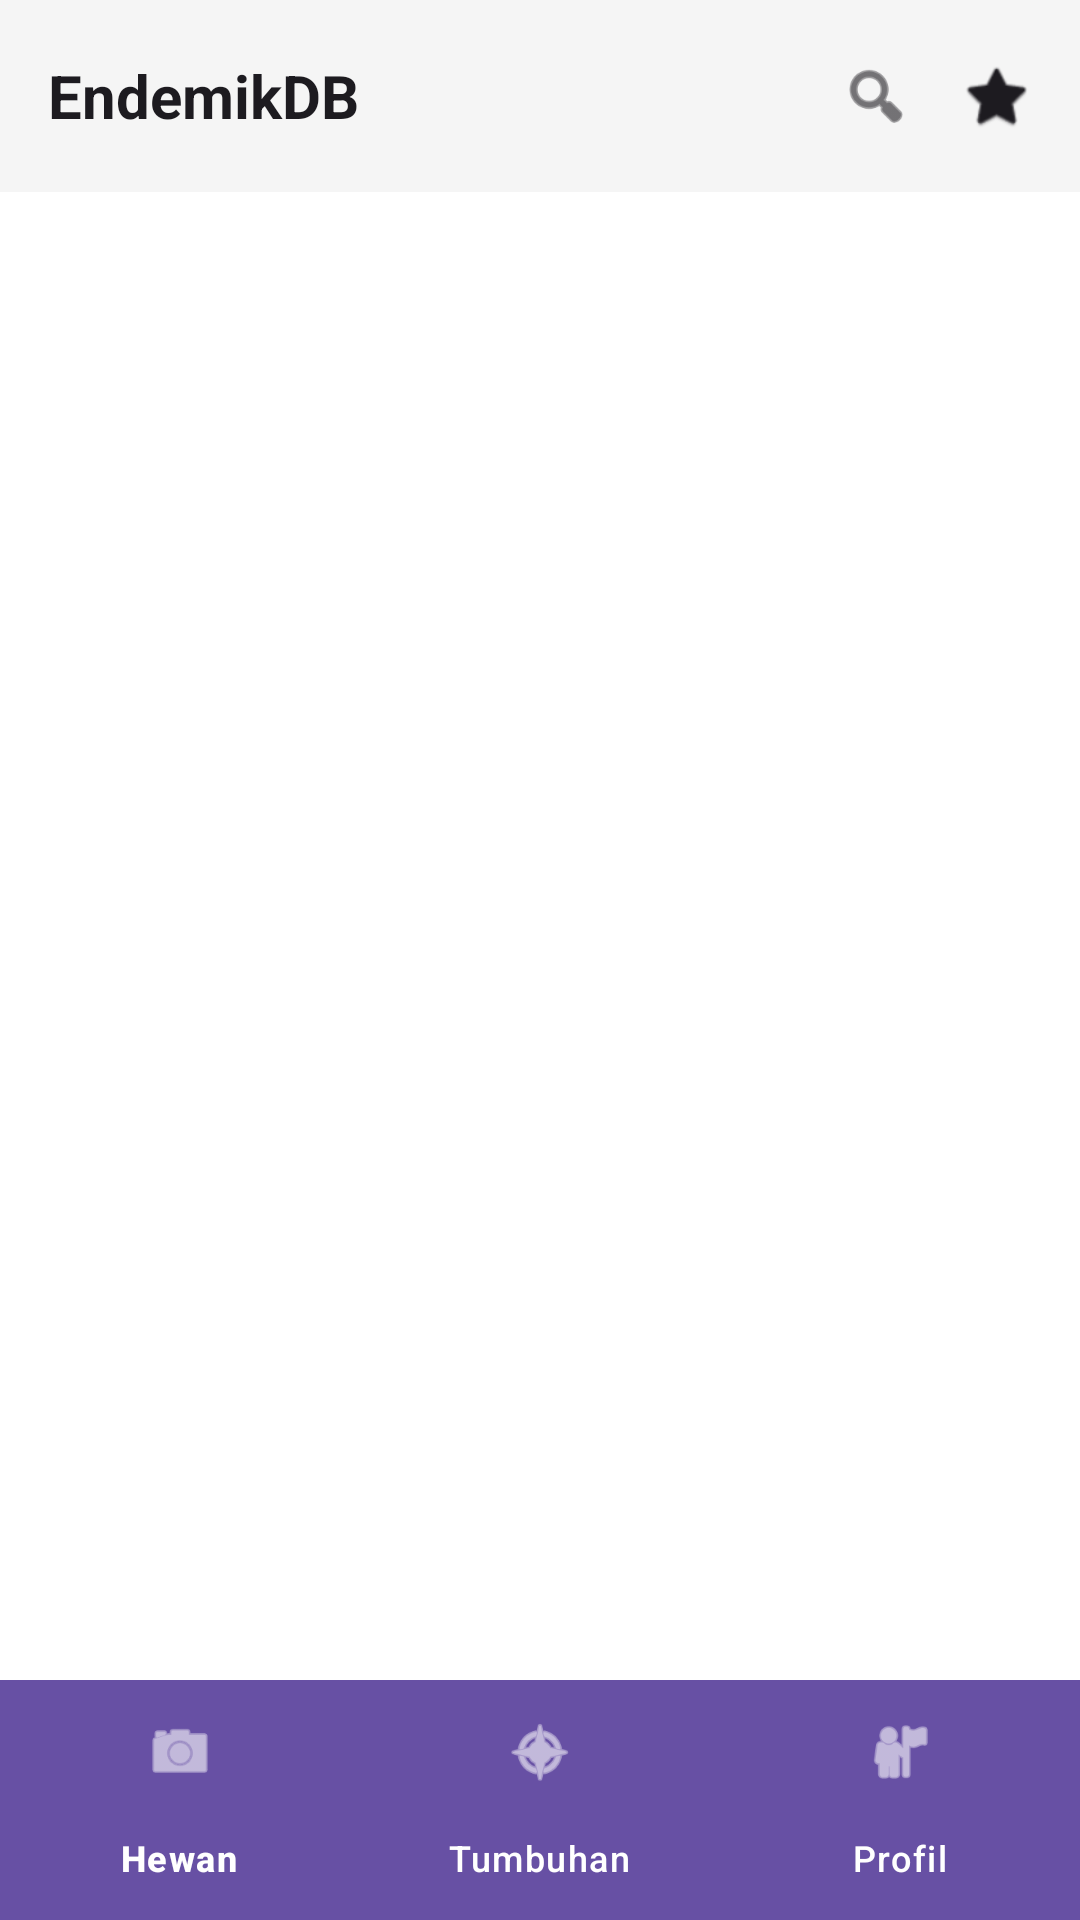

Named icons in this screenshot (1080 x 1920) and their centers, (x=x, y=y):
search: (x=876, y=96)
star: (x=997, y=96)
